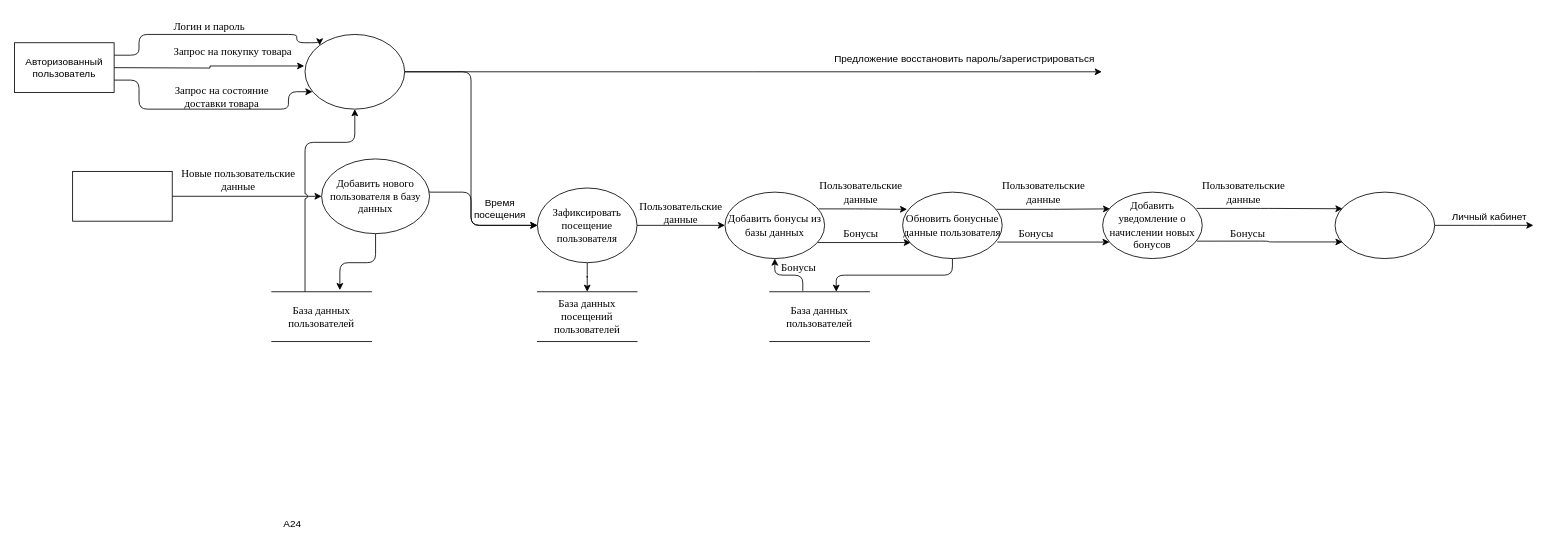
Image size: 1555x546. Some labels were removed from this diagram. The shapes that lost their labels are listed below. From the top down, each one's centre as x and y in pixels, then its label:
At point (354, 71): "Идентифицировать пользователя".
At point (122, 196): "Неавторизованный пользователь".
At point (1384, 225): "Вернуть страницу с личным кабинетом".
